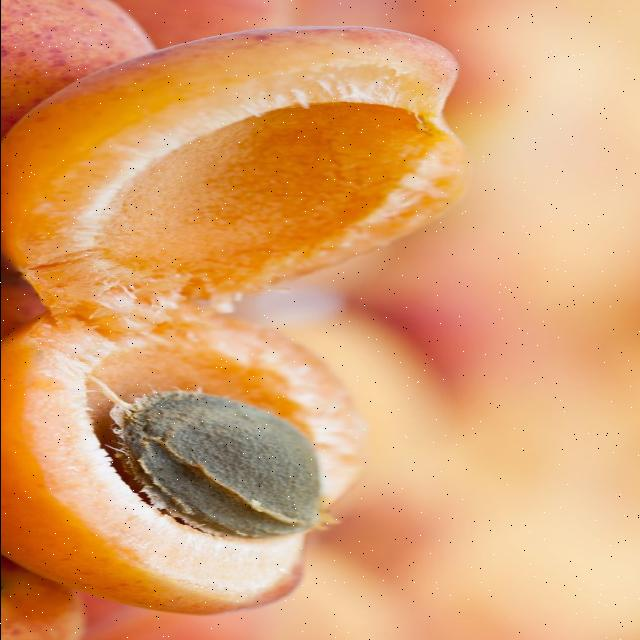Cekirdek: (106, 391, 327, 539)
